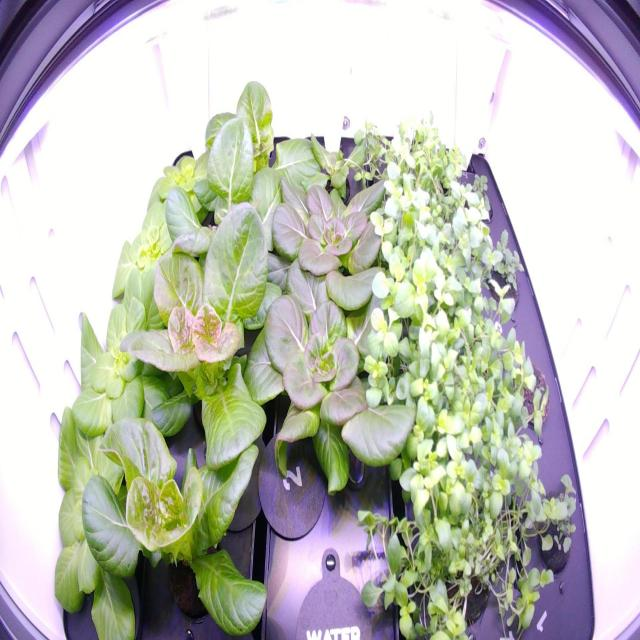young: (106, 203, 307, 477), (71, 366, 272, 634), (236, 248, 424, 505), (43, 399, 188, 639), (153, 117, 315, 316), (179, 74, 336, 254), (59, 279, 192, 472), (262, 160, 395, 324), (102, 187, 216, 342), (135, 117, 226, 240), (297, 110, 384, 221)
